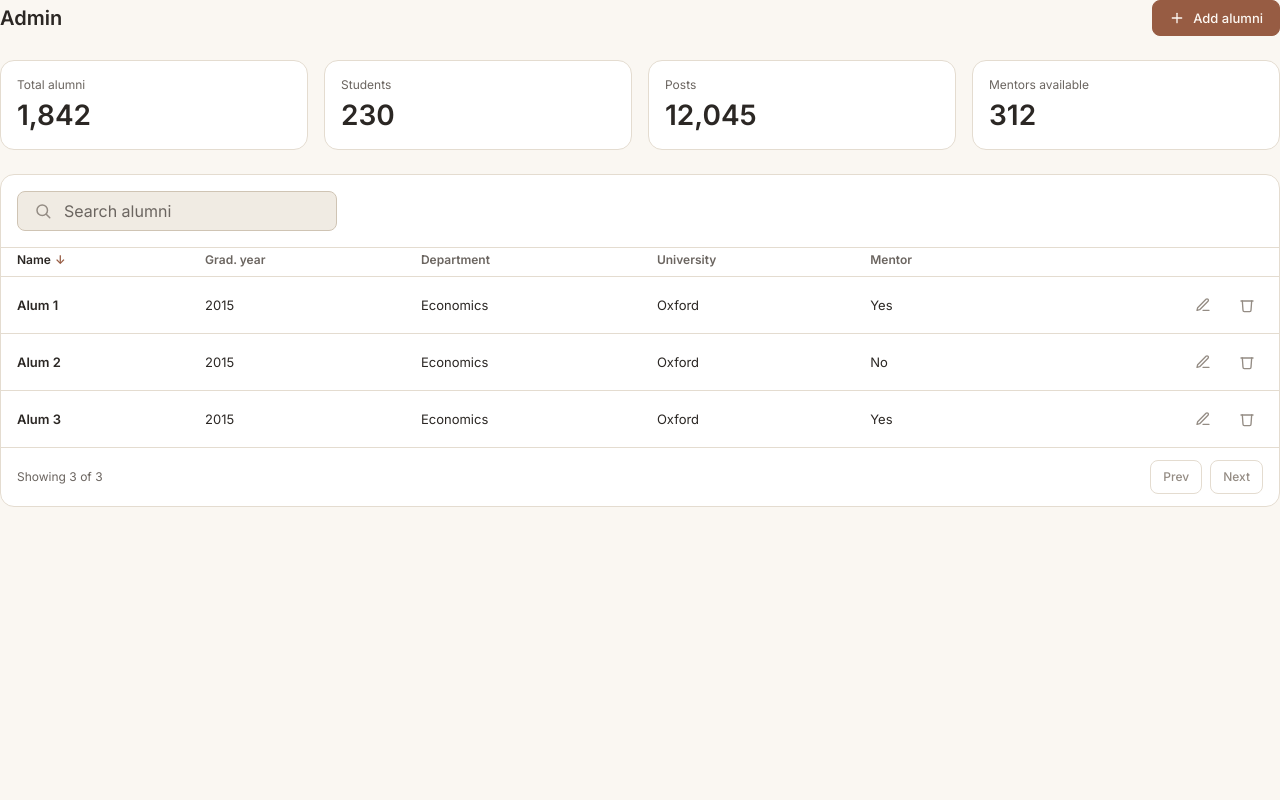
it: DeleteAlumniDialog › Cancel closes without a request and returns focus to the row’s Delete
Expected: the column heading "Alum 1" is shown, 1,276 -> 189,334
Click the button named "Delete Alum 2": (1247, 362) 1231,346 -> 1263,378
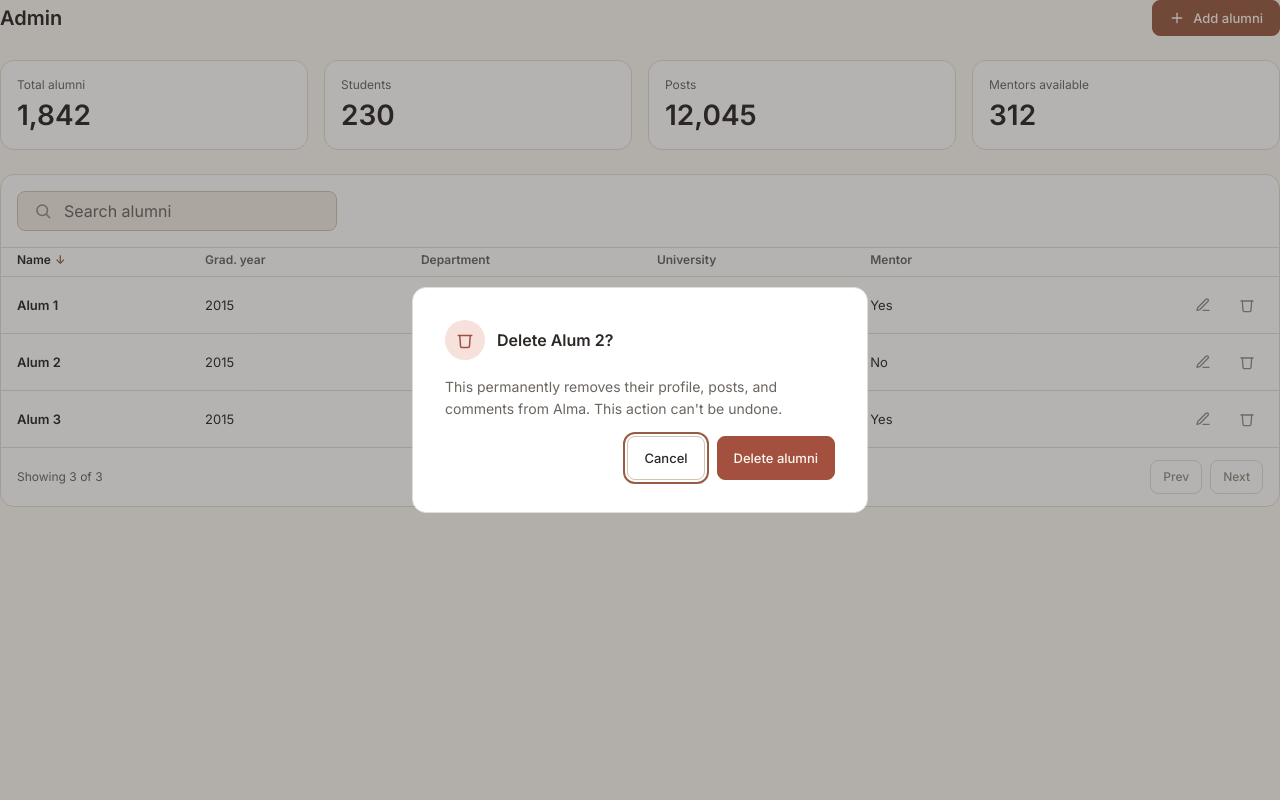
Click the button "Cancel": (666, 458) 627,436 -> 705,480
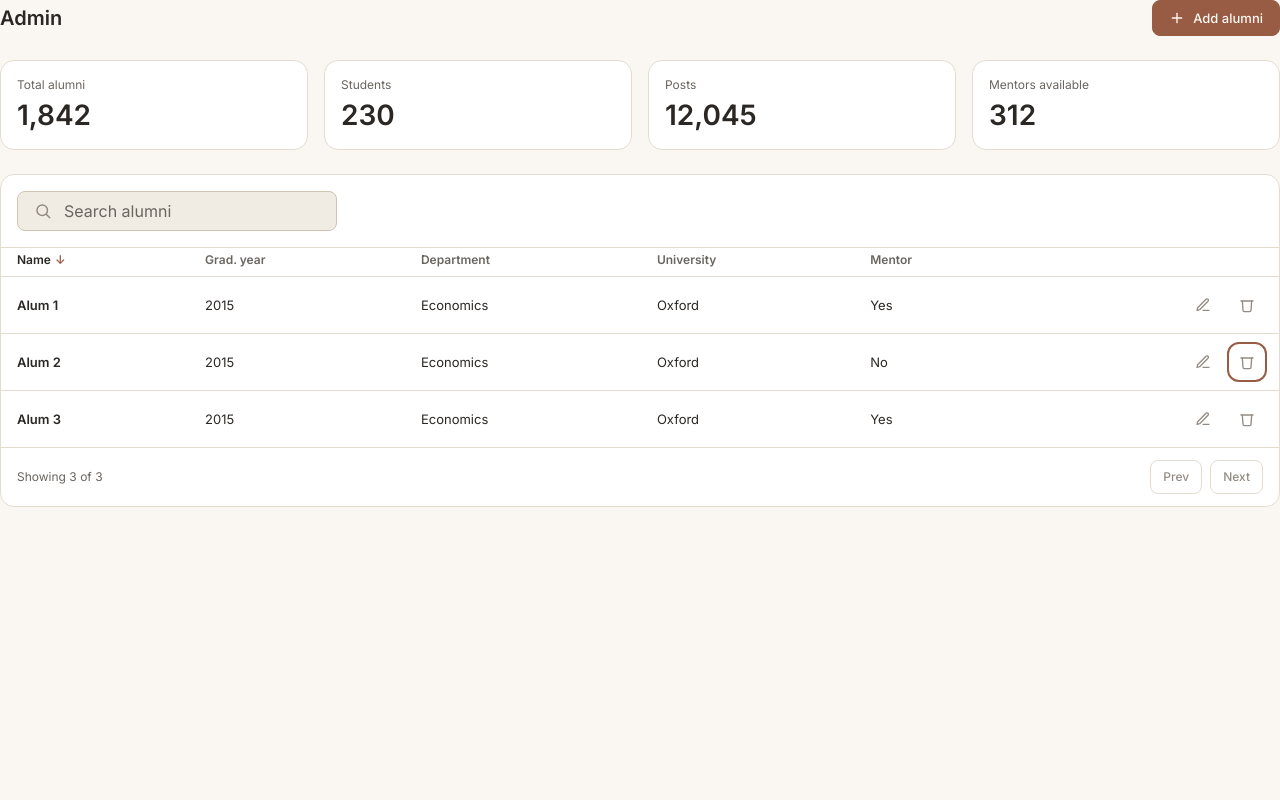
Now the dialog is gone
